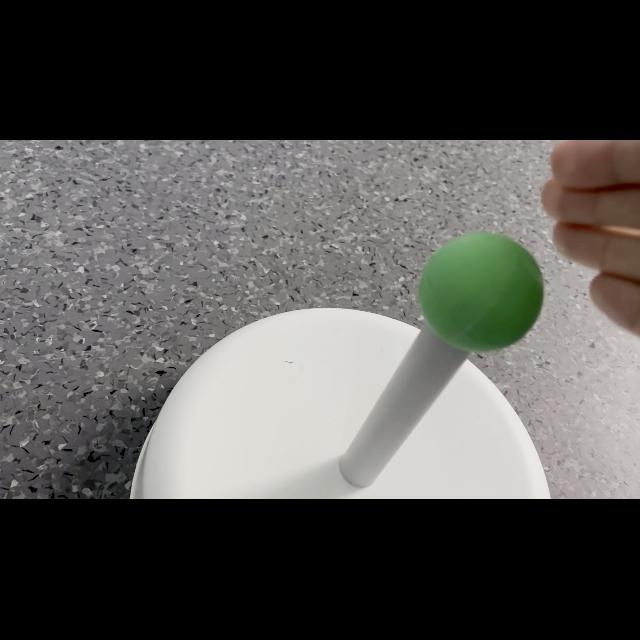objects: (416, 226, 548, 358)
